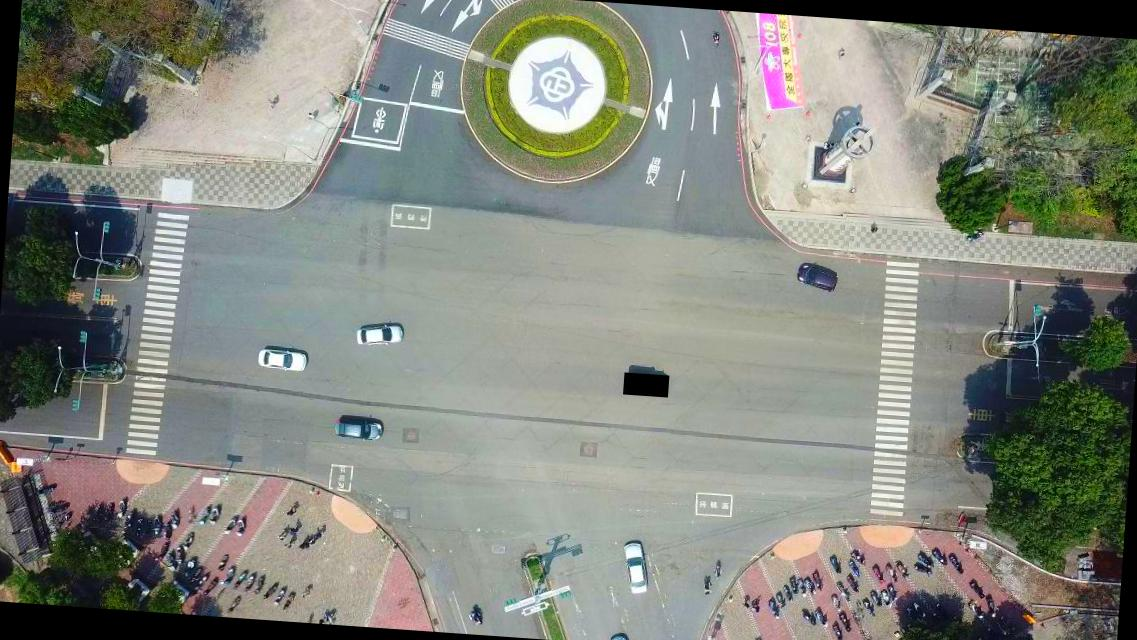vehicle: (617, 538, 651, 596), (354, 320, 404, 348), (793, 262, 838, 292), (255, 346, 306, 372), (332, 416, 382, 441)
